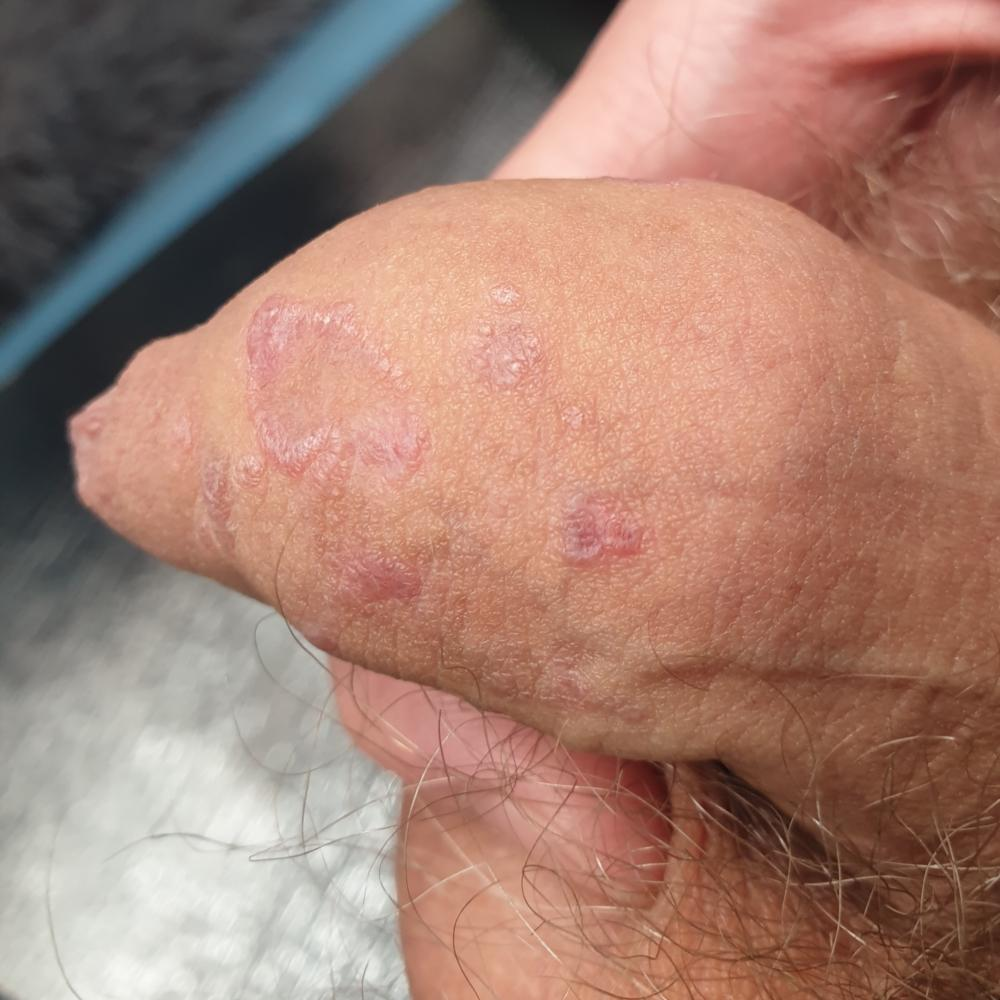annular lichen planus: (222, 285, 484, 520)
